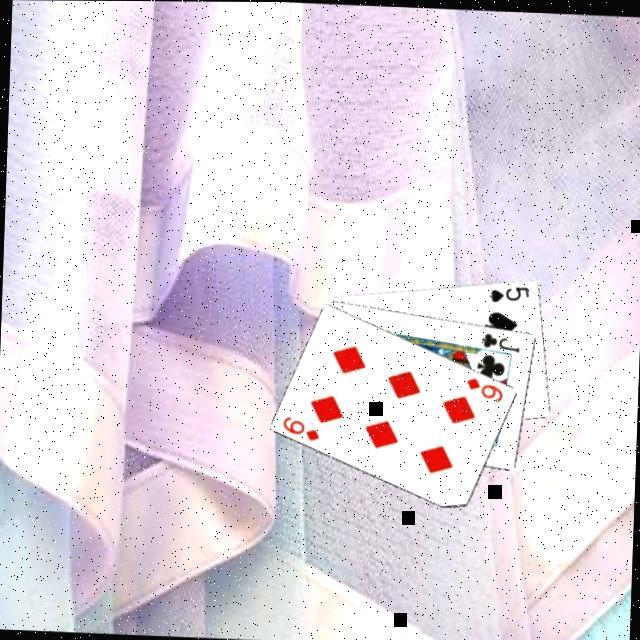5S: (484, 278, 530, 302)
6D: (460, 370, 505, 402), (277, 410, 321, 441)
JC: (476, 327, 522, 352)
